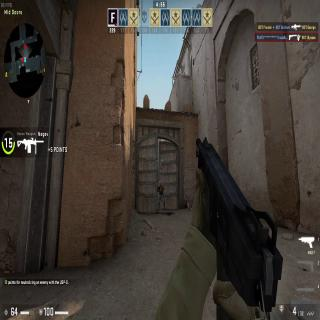CT-Body: (157, 181, 165, 210)
CT-Head: (159, 182, 161, 186)
